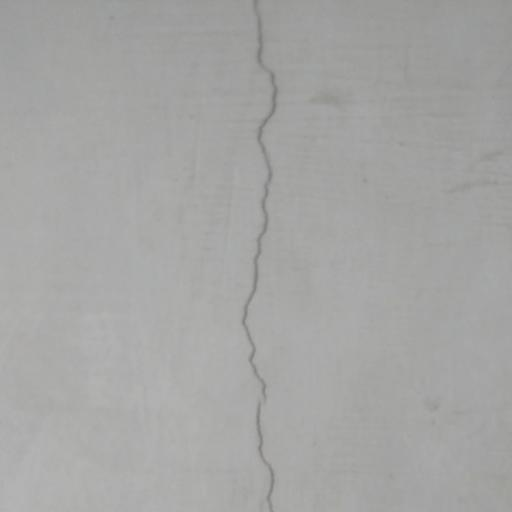minor_crack: (226, 0, 289, 512)
